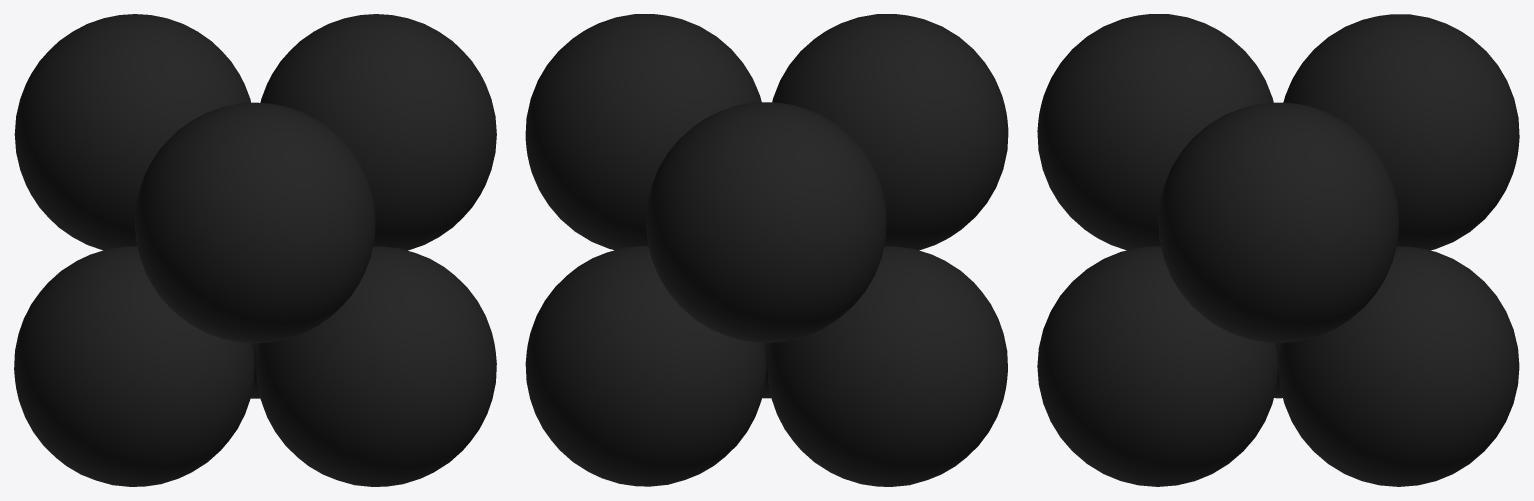
The model's file is solid_state_qn_019.glb.
The picture shows the model from 3 angles, left to right: view 1: azimuth 30°, elevation 25°; view 2: azimuth 150°, elevation 25°; view 3: azimuth 270°, elevation 25°; orthographic projection.
Visible parts, largest first — view 1: Icosphere.061, Icosphere.057, Icosphere.058, Icosphere.060, Icosphere.059; view 2: Icosphere.059, Icosphere.058, Icosphere.056, Icosphere.061, Icosphere.060; view 3: Icosphere.060, Icosphere.057, Icosphere.056, Icosphere.061, Icosphere.059.
Boxes of the visible parts, x1=… form: Icosphere.061: x1=134, y1=102, x2=375, y2=343; Icosphere.057: x1=256, y1=246, x2=496, y2=486; Icosphere.058: x1=14, y1=246, x2=254, y2=486; Icosphere.060: x1=260, y1=14, x2=496, y2=250; Icosphere.059: x1=14, y1=14, x2=251, y2=250; Icosphere.059: x1=646, y1=102, x2=886, y2=342; Icosphere.058: x1=767, y1=246, x2=1007, y2=486; Icosphere.056: x1=525, y1=246, x2=766, y2=486; Icosphere.061: x1=772, y1=14, x2=1008, y2=250; Icosphere.060: x1=525, y1=14, x2=761, y2=250; Icosphere.060: x1=1158, y1=102, x2=1398, y2=342; Icosphere.057: x1=1037, y1=246, x2=1278, y2=486; Icosphere.056: x1=1278, y1=246, x2=1519, y2=486; Icosphere.061: x1=1037, y1=14, x2=1273, y2=250; Icosphere.059: x1=1283, y1=14, x2=1519, y2=250.
Bounding box in the file's own units: 4.32 × 3.59 × 4.
1 material, 1 textured.
